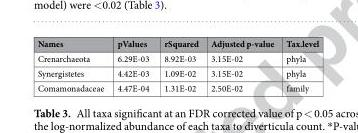table: (36, 36, 318, 93)
table column: (204, 36, 279, 93), (36, 36, 109, 93), (155, 36, 204, 93), (109, 36, 155, 93), (279, 36, 318, 93)
table column header: (36, 36, 318, 50)
table row: (36, 50, 318, 65), (36, 65, 318, 80), (36, 36, 318, 50), (36, 80, 318, 93)
